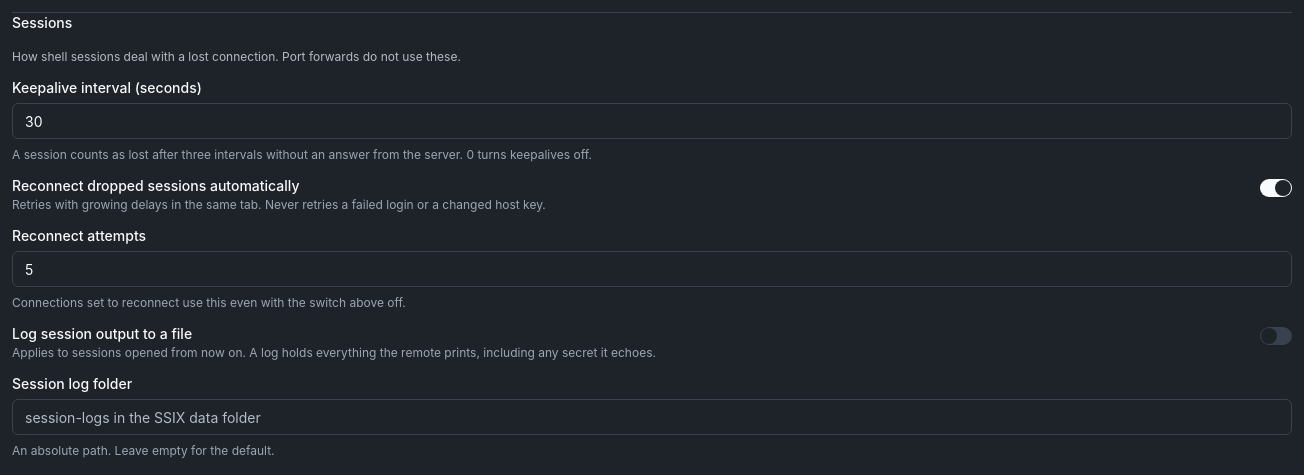
Test case: SessionSection › keeps the value when a number field is left empty
The width and height of the screenshot is (1304, 475).
Clear the number field with test id "settings-keepalive-interval" at point(652, 121), box [12,103,1292,139]
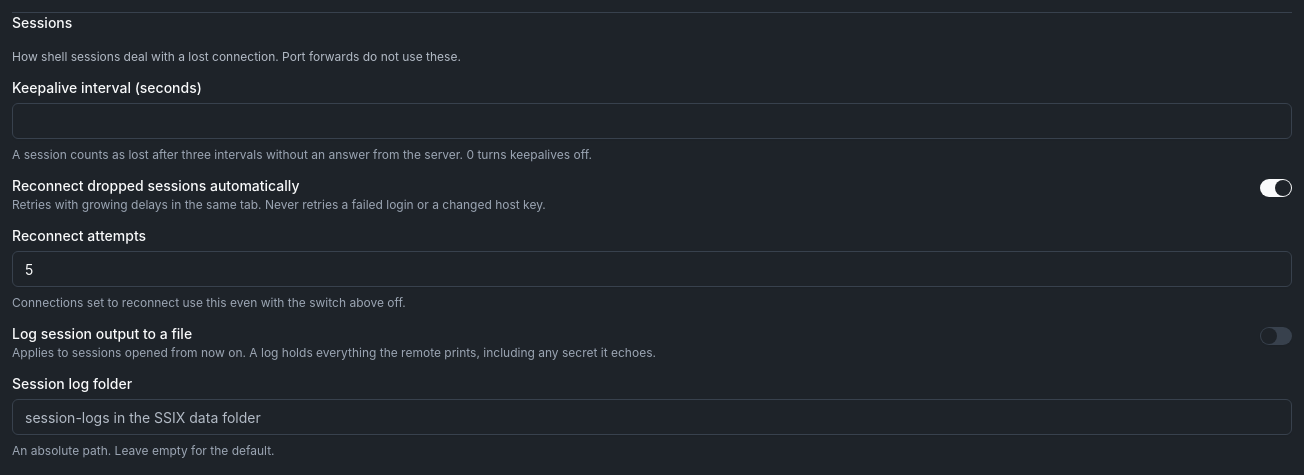
Leave the number field with test id "settings-keepalive-interval", box [12,103,1292,139]
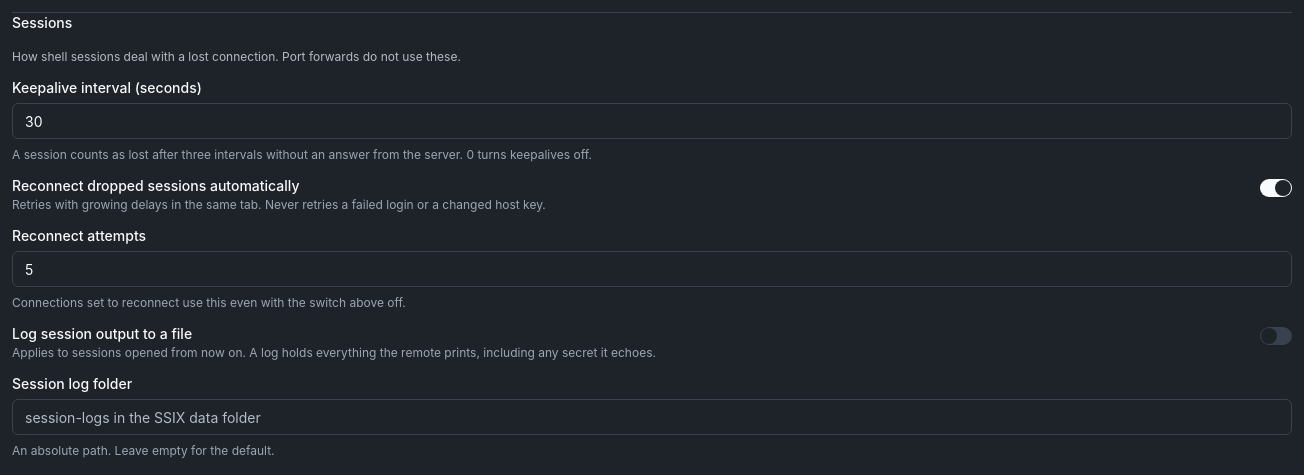
Expected: the number field with test id "settings-keepalive-interval" holds "30", [12,103,1292,139]
